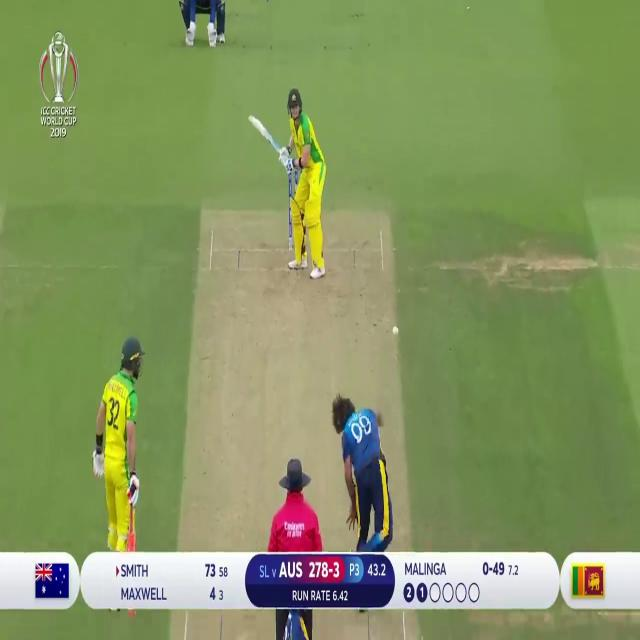ball: (390, 322, 400, 338)
